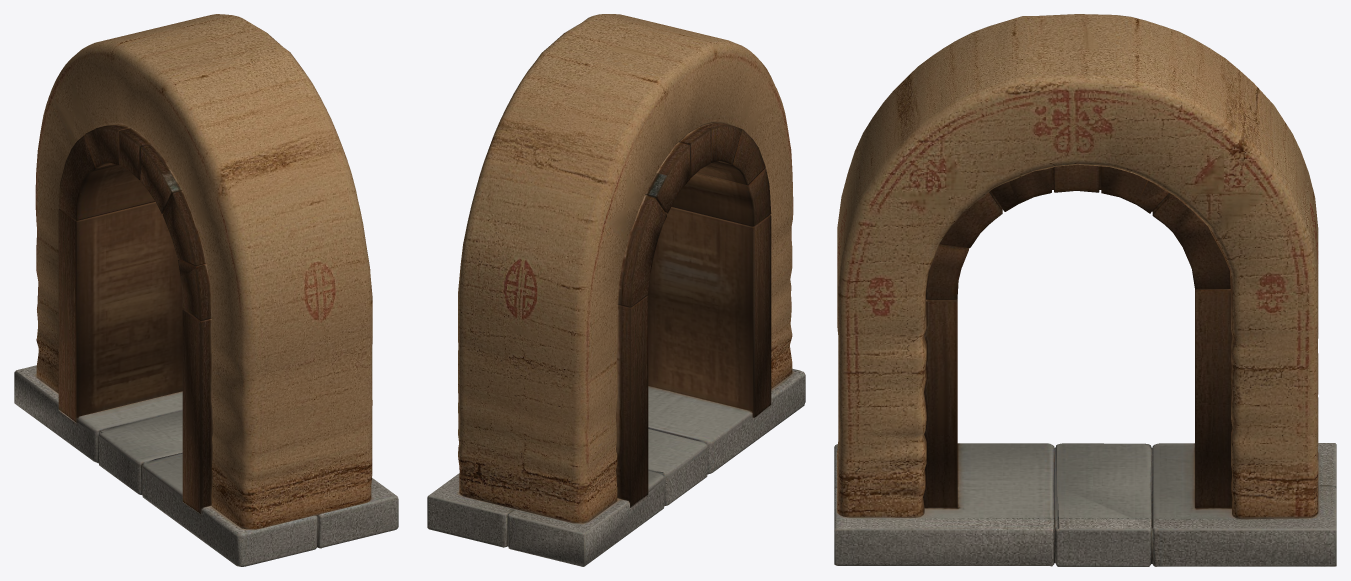
The model's file is tripo_convert_883aa1c9-a6c2-4b91-a439-3abcae4ca6e7.fbx.
The picture shows the model from 3 angles, left to right: view 1: azimuth 30°, elevation 25°; view 2: azimuth 150°, elevation 25°; view 3: azimuth 270°, elevation 25°; orthographic projection. The views are drawn at different scales.
Parts seen in each view (by area): view 1: tripo_node_883aa1c9; view 2: tripo_node_883aa1c9; view 3: tripo_node_883aa1c9.
Boxes of the visible parts, x1,y1,x2,y2 form: tripo_node_883aa1c9: (14,14,398,566); tripo_node_883aa1c9: (427,14,805,566); tripo_node_883aa1c9: (834,14,1336,566).
Size of the model in its own units: 0.3965 by 0.998 by 0.9551.
1 material, 1 textured.
